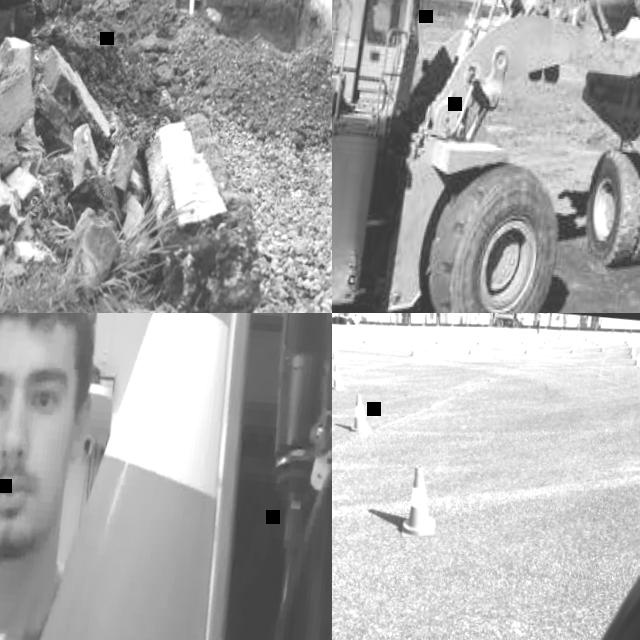NO-Hardhat: (0, 313, 98, 361)
NO-Mask: (0, 456, 57, 560)
Person: (0, 313, 301, 640), (363, 0, 393, 46)
Safety Cone: (0, 313, 321, 640), (401, 464, 442, 541), (350, 393, 375, 435), (332, 364, 347, 391), (332, 343, 341, 360), (409, 342, 418, 357), (467, 342, 475, 355), (628, 340, 634, 357), (633, 353, 640, 367), (362, 338, 369, 350), (629, 349, 636, 360), (569, 344, 576, 354), (475, 340, 482, 350), (524, 344, 530, 355), (434, 338, 440, 349), (599, 344, 605, 353), (543, 340, 547, 349), (601, 341, 605, 350), (521, 341, 525, 349), (549, 338, 553, 346), (596, 339, 600, 347), (628, 343, 631, 351), (592, 338, 595, 345), (590, 337, 593, 344), (586, 337, 589, 344), (627, 340, 630, 347), (625, 338, 628, 345), (555, 339, 558, 345), (561, 335, 564, 341), (585, 336, 588, 342), (583, 335, 586, 341), (569, 334, 572, 340), (559, 335, 561, 340)
machinery: (332, 0, 640, 313), (552, 5, 640, 313)
